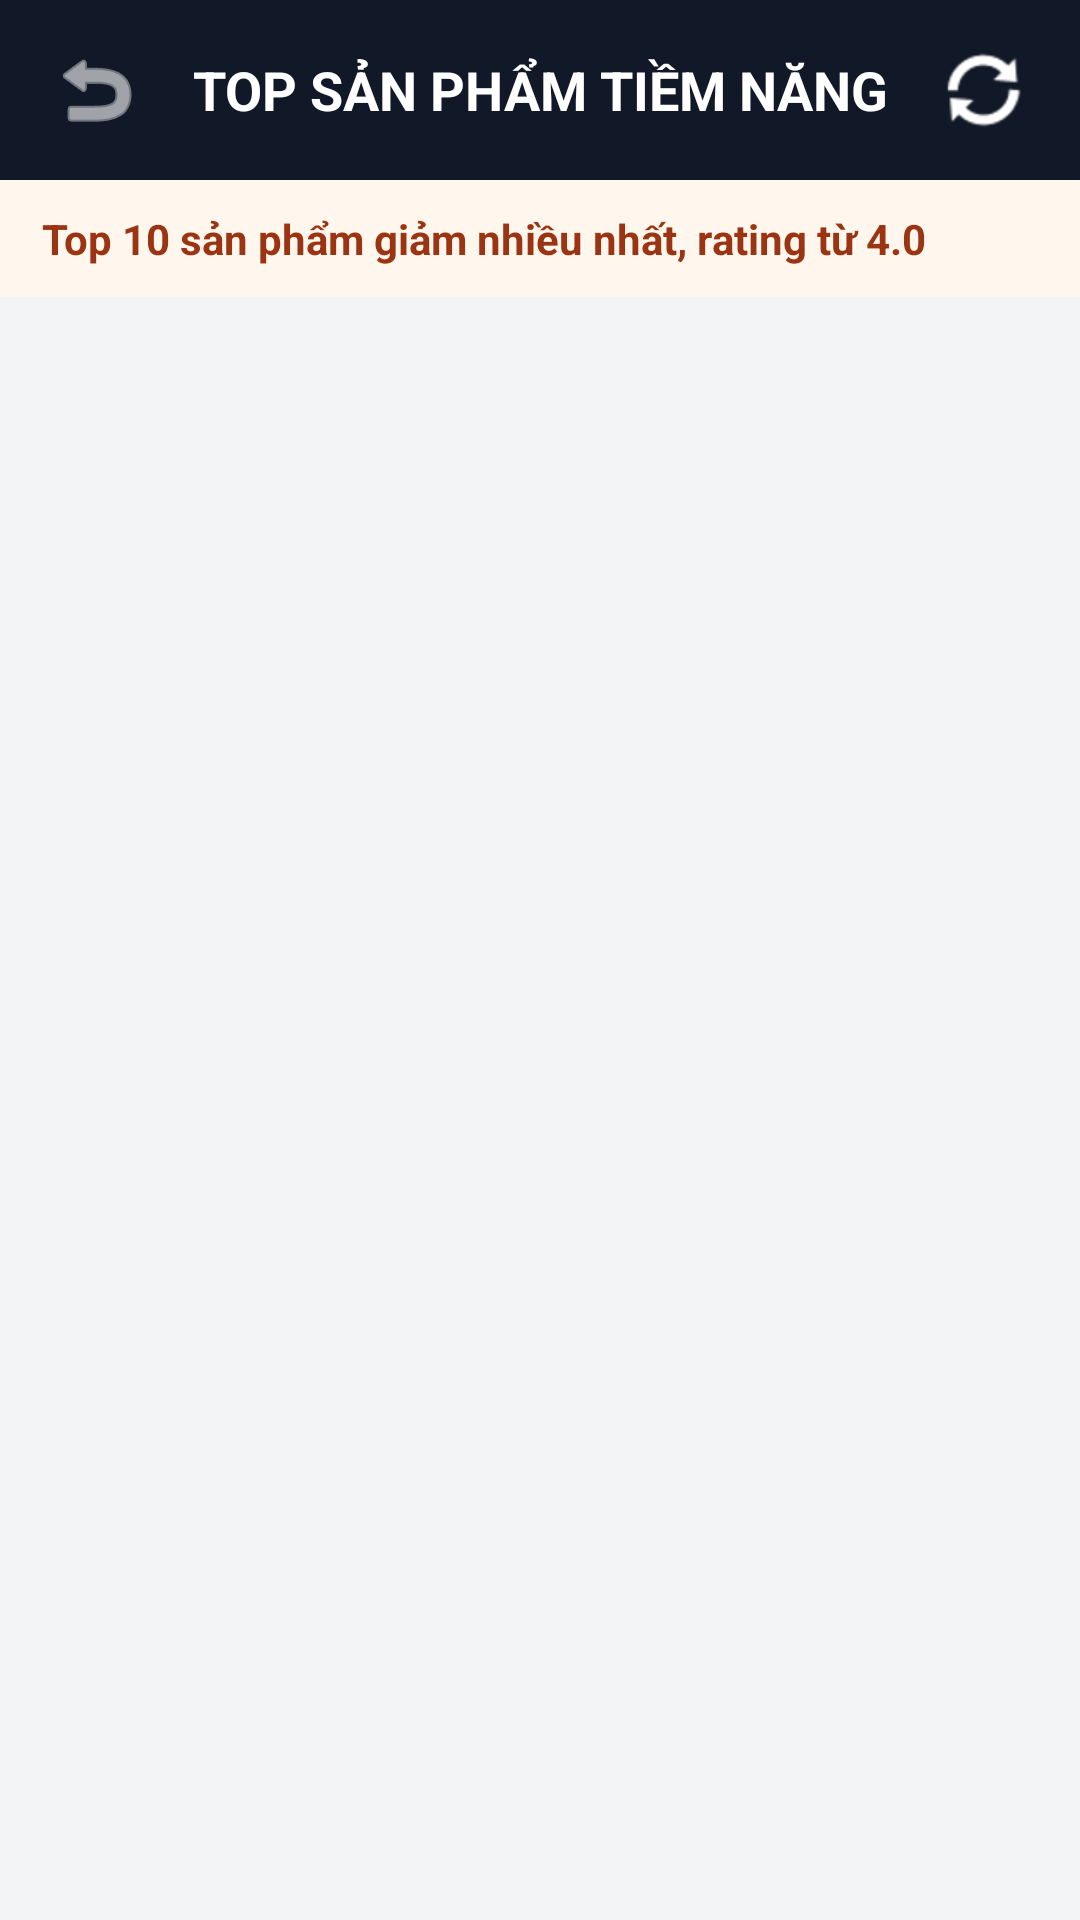

Locate icon controls on the screen. Image size 1080px x 1920px, boxes as (x1, y1, x2, y2).
Quay lại: (63, 59, 132, 122)
Tải lại: (947, 54, 1021, 126)
